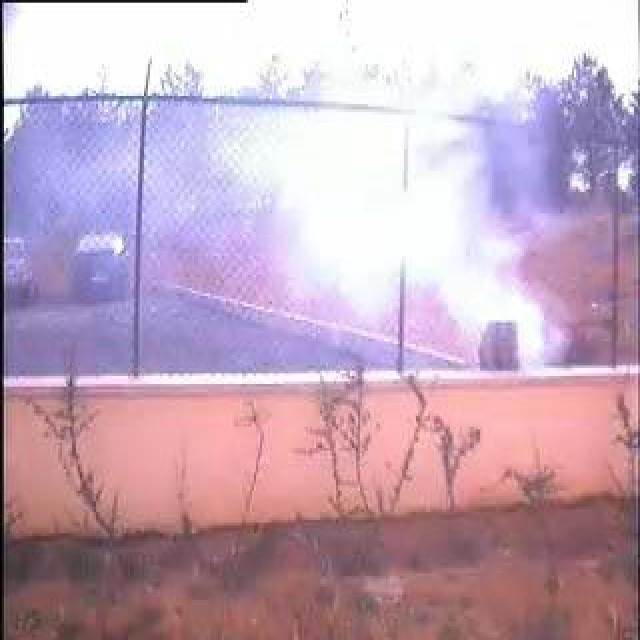Smoke: (219, 39, 567, 372)
